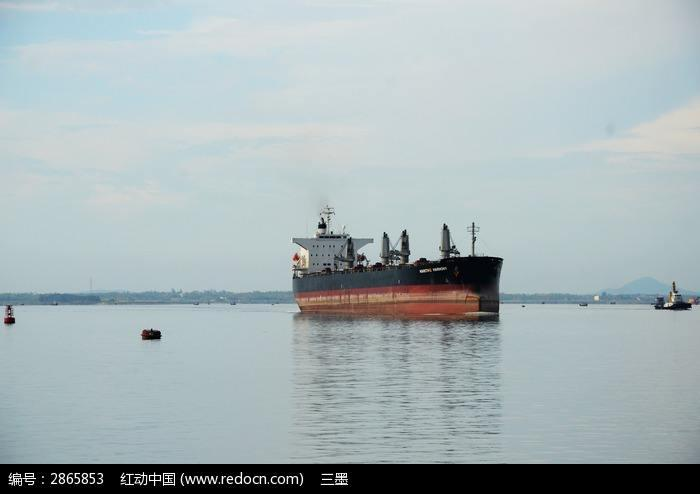Cargoship: (292, 194, 503, 316)
otherboat: (655, 282, 693, 312)
